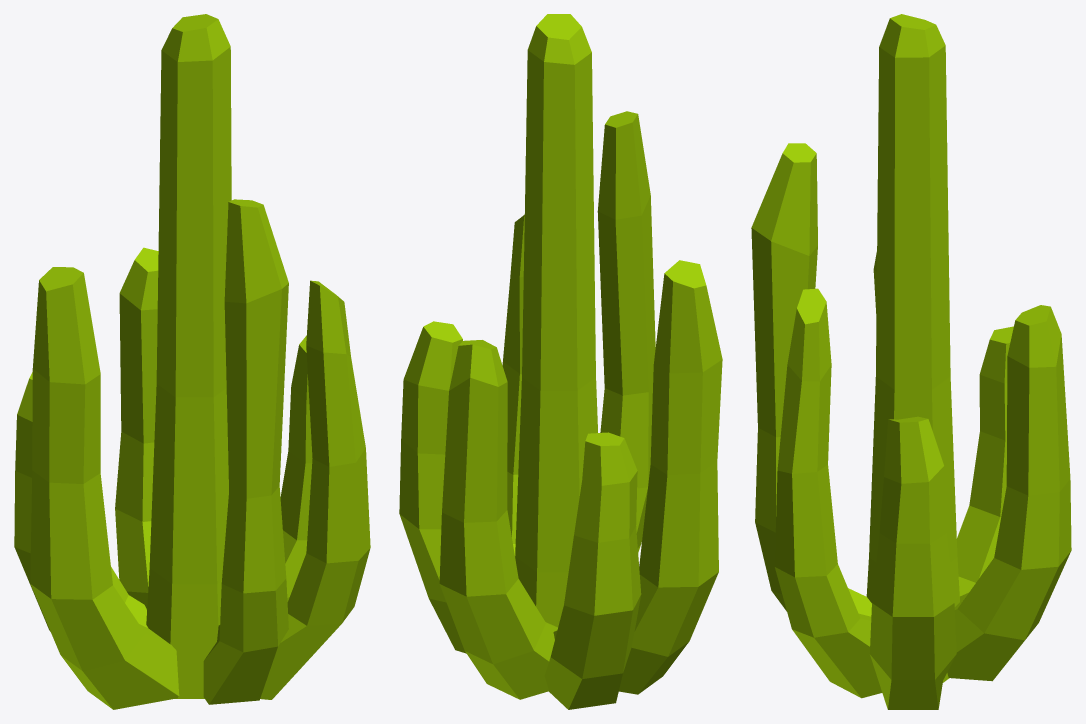
Rendered from Tree_Cactus.fbx.
3 views of the same model, side by side, from view 1: azimuth 30°, elevation 25°; view 2: azimuth 150°, elevation 25°; view 3: azimuth 270°, elevation 25° (orthographic). The views are drawn at different scales.
Parts seen in each view (by area): view 1: Tree Cactus; view 2: Tree Cactus; view 3: Tree Cactus.
Part boxes in pixels (bbox=[...]): Tree Cactus: bbox=[14, 14, 370, 709]; Tree Cactus: bbox=[399, 14, 722, 709]; Tree Cactus: bbox=[751, 14, 1071, 709].
Size of the model in its own units: 928 by 1890 by 844.
